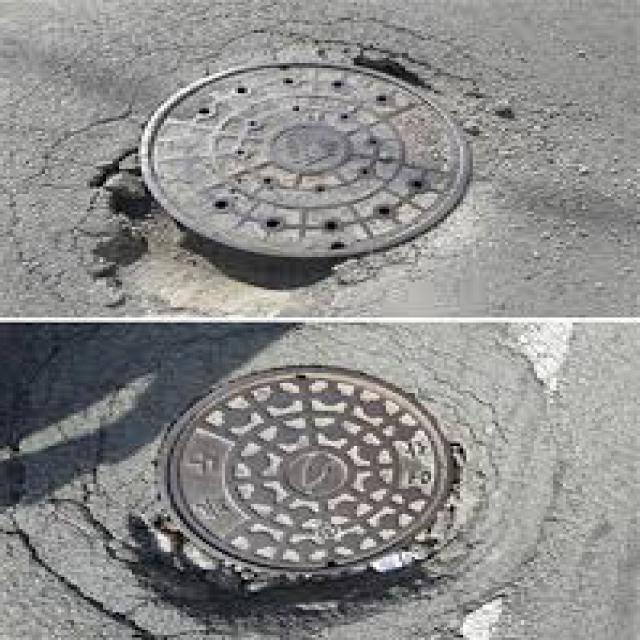Sewer Cover: (101, 54, 490, 279), (129, 356, 480, 579)
